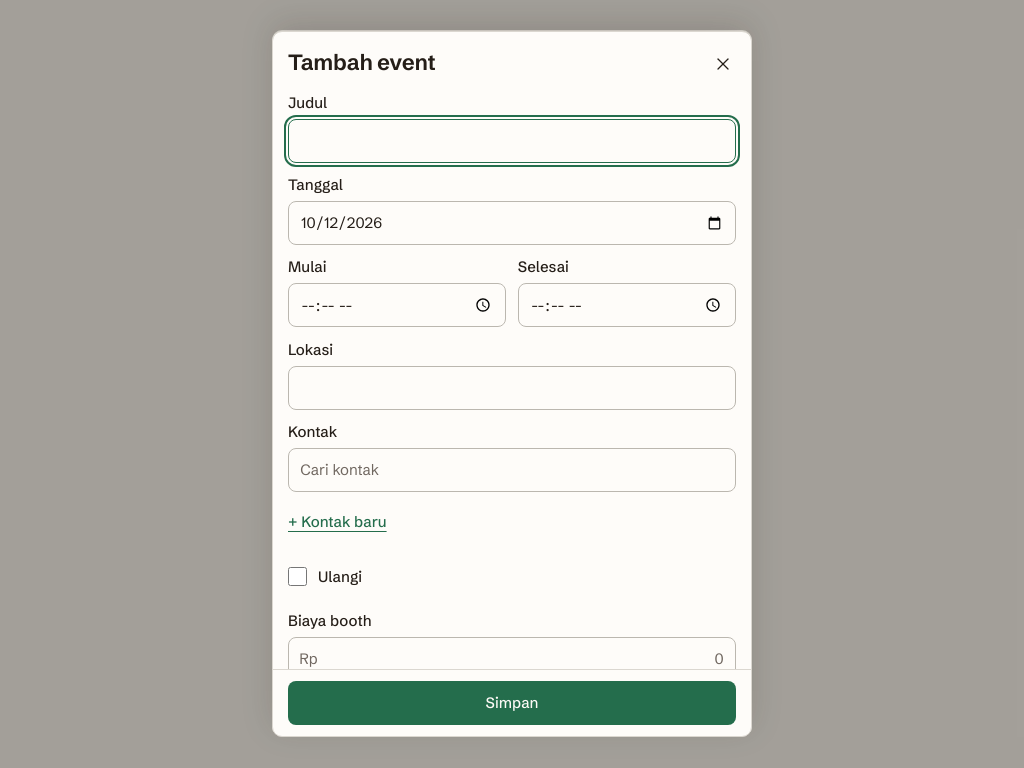
Test: end before start shows error under Selesai
Type "CFD" into the field labelled "Judul" at (512, 141), box [288,119,736,163]
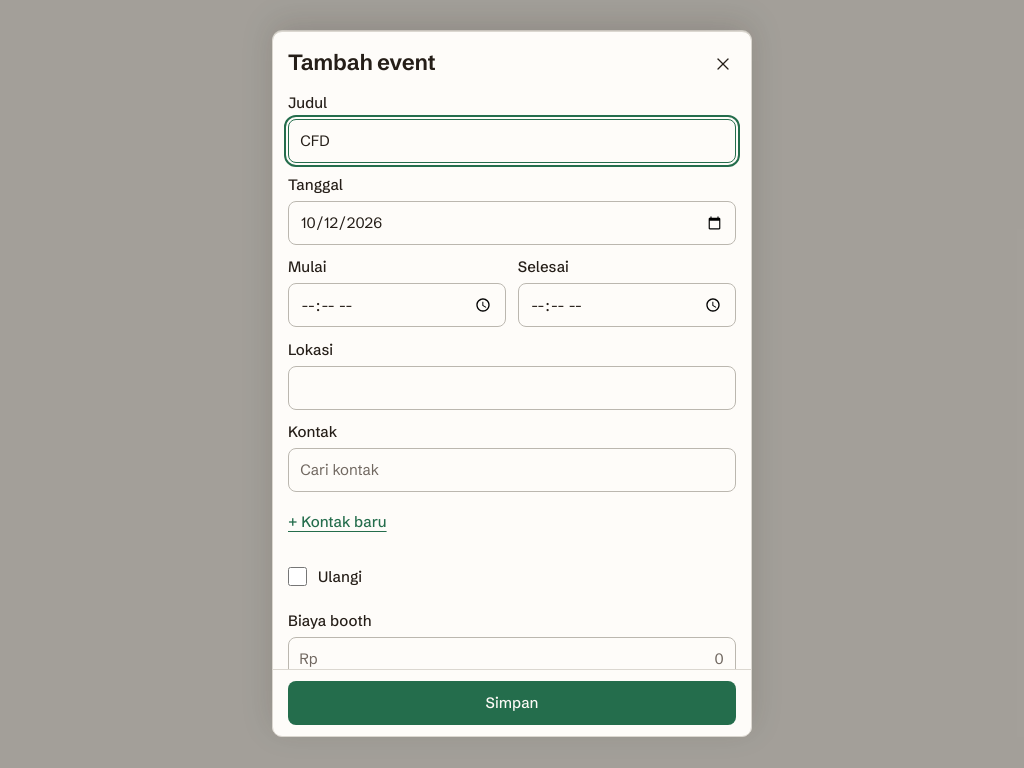
Type "South City" into the field labelled "Lokasi" at (512, 388), box [288,366,736,410]
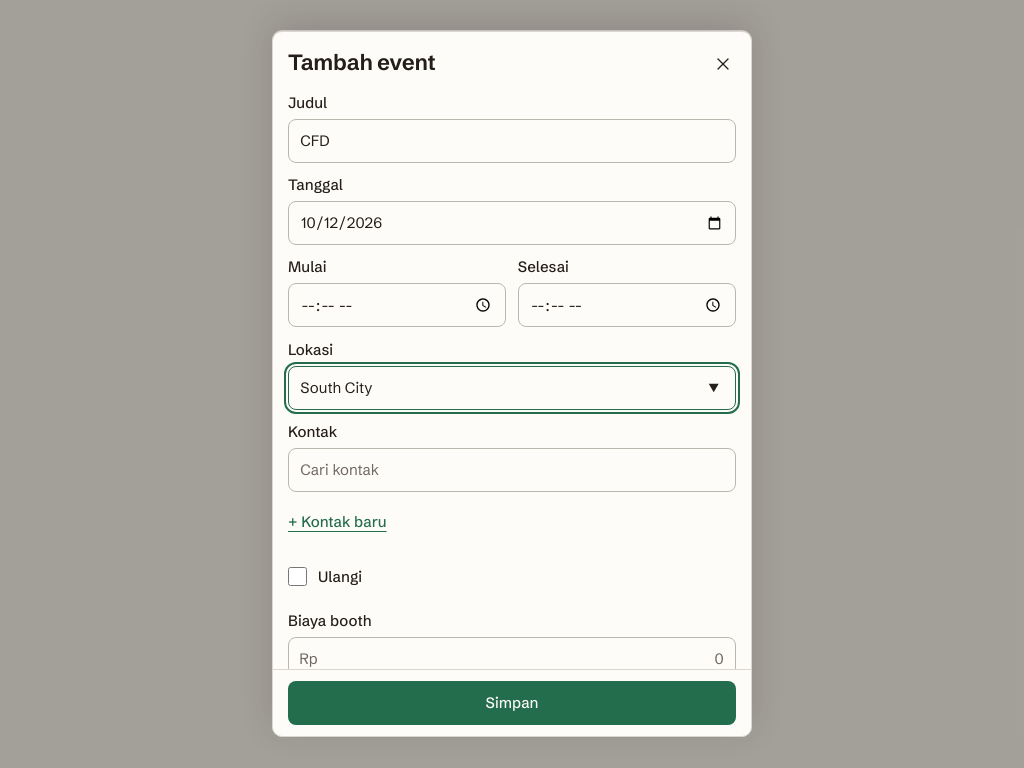
Type "10:00" into the time field labelled "Mulai" at (397, 305), box [288,283,506,327]
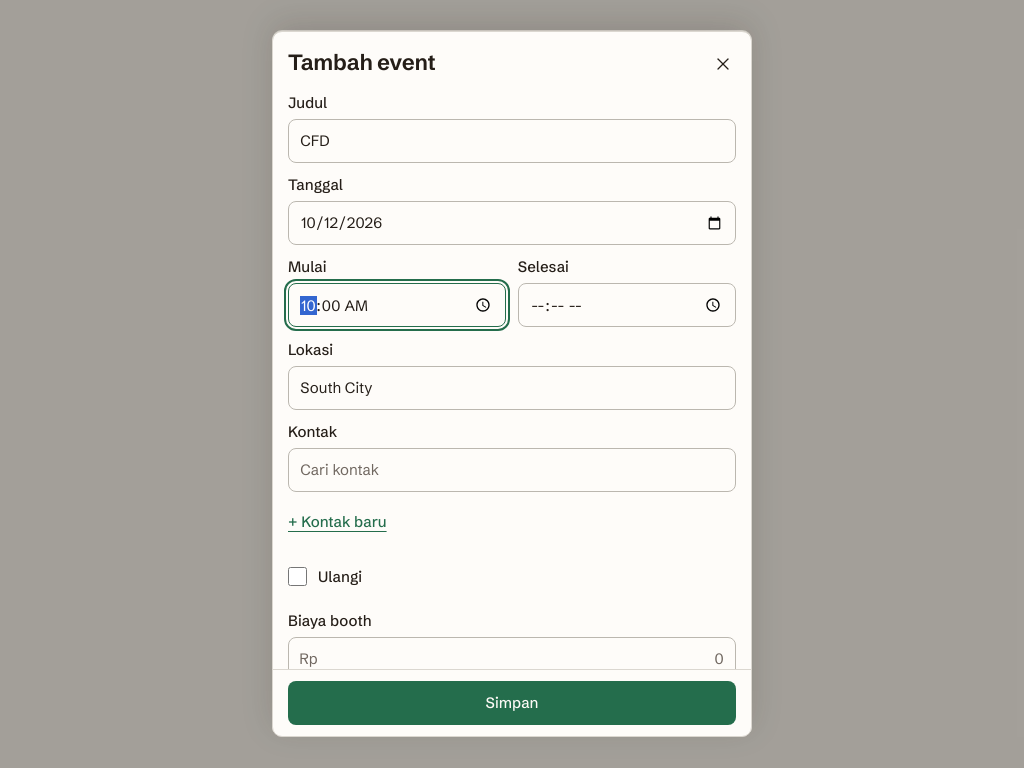
Type "09:00" into the time field labelled "Selesai" at (627, 305), box [518,283,736,327]
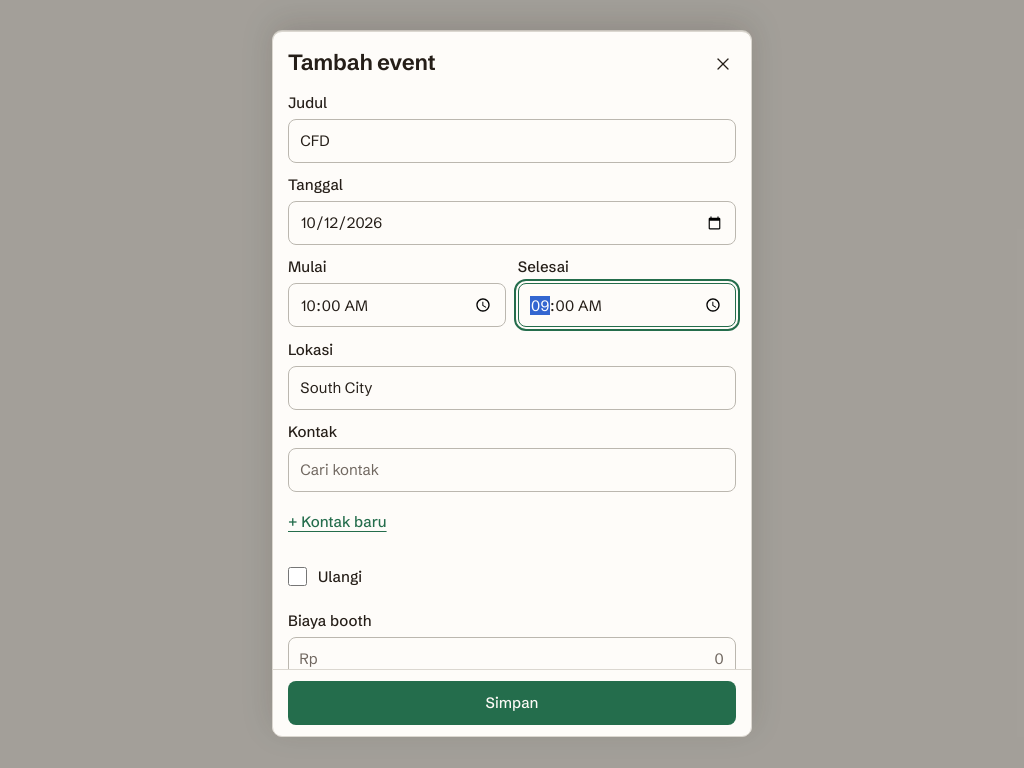
Click the button "Simpan" at (512, 703), box [288,681,736,725]
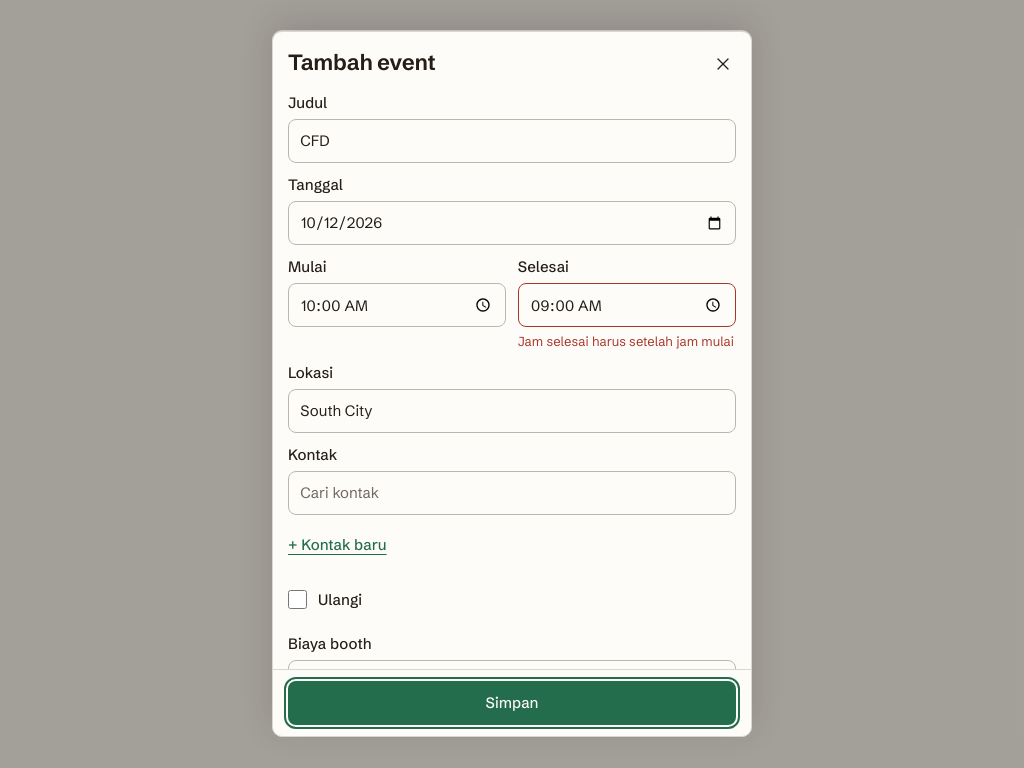
Expected: the text "Jam selesai harus setelah jam mulai" is shown, [518,333,736,350]
